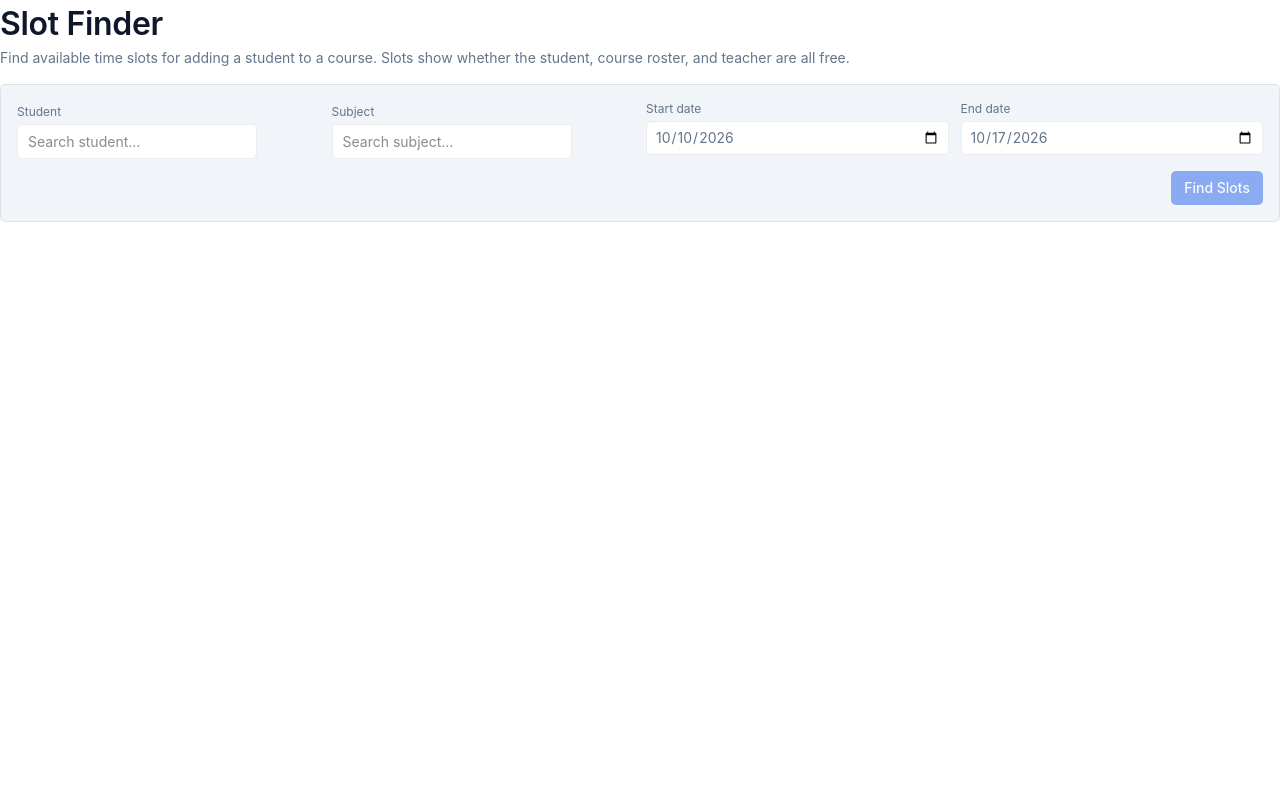
Test: SlotFinder empty state › shows EmptyState after search returns no slots
# Wait for the student lookup to load, then pick the student.
Click the dropdown labelled "Student". click: x=137, y=142
box: top-left (17, 124), bottom-right (257, 159)
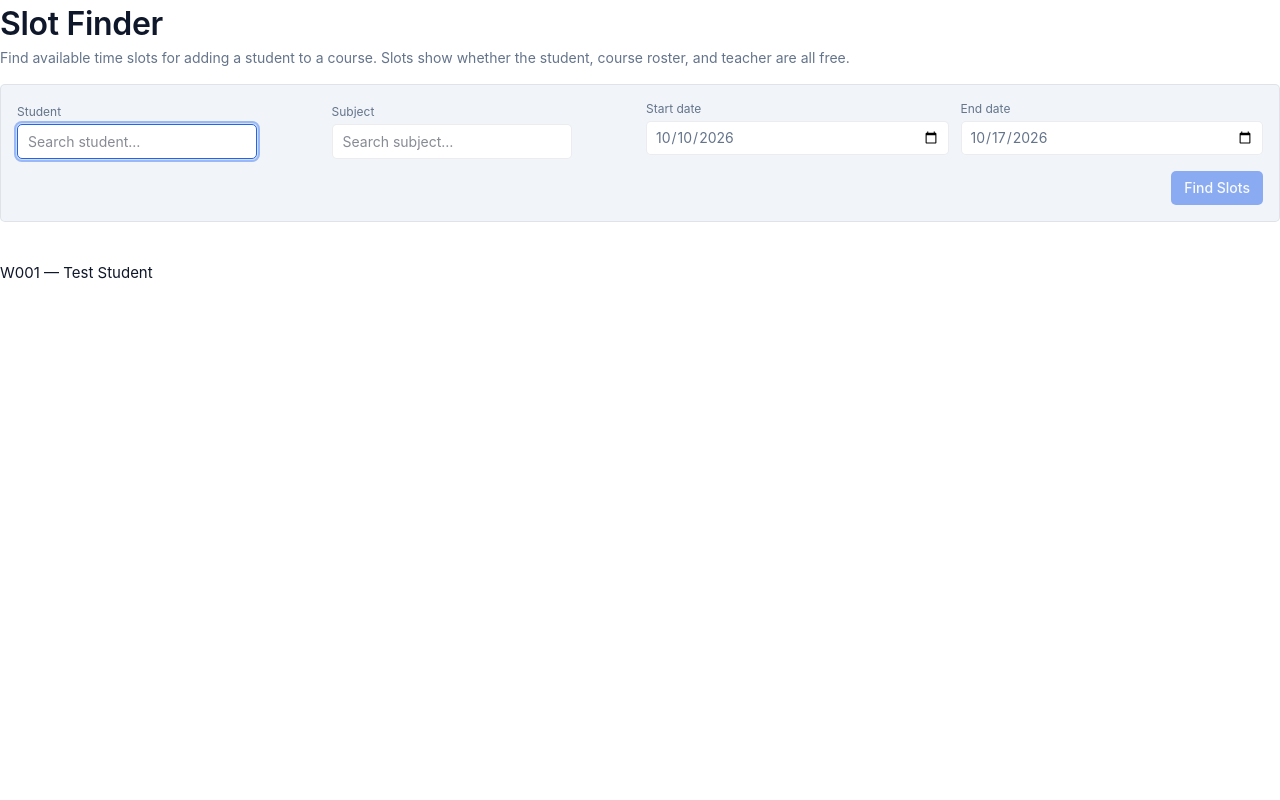
Click the option "W001 — Test Student". click: x=76, y=265
box: top-left (0, 246), bottom-right (153, 284)
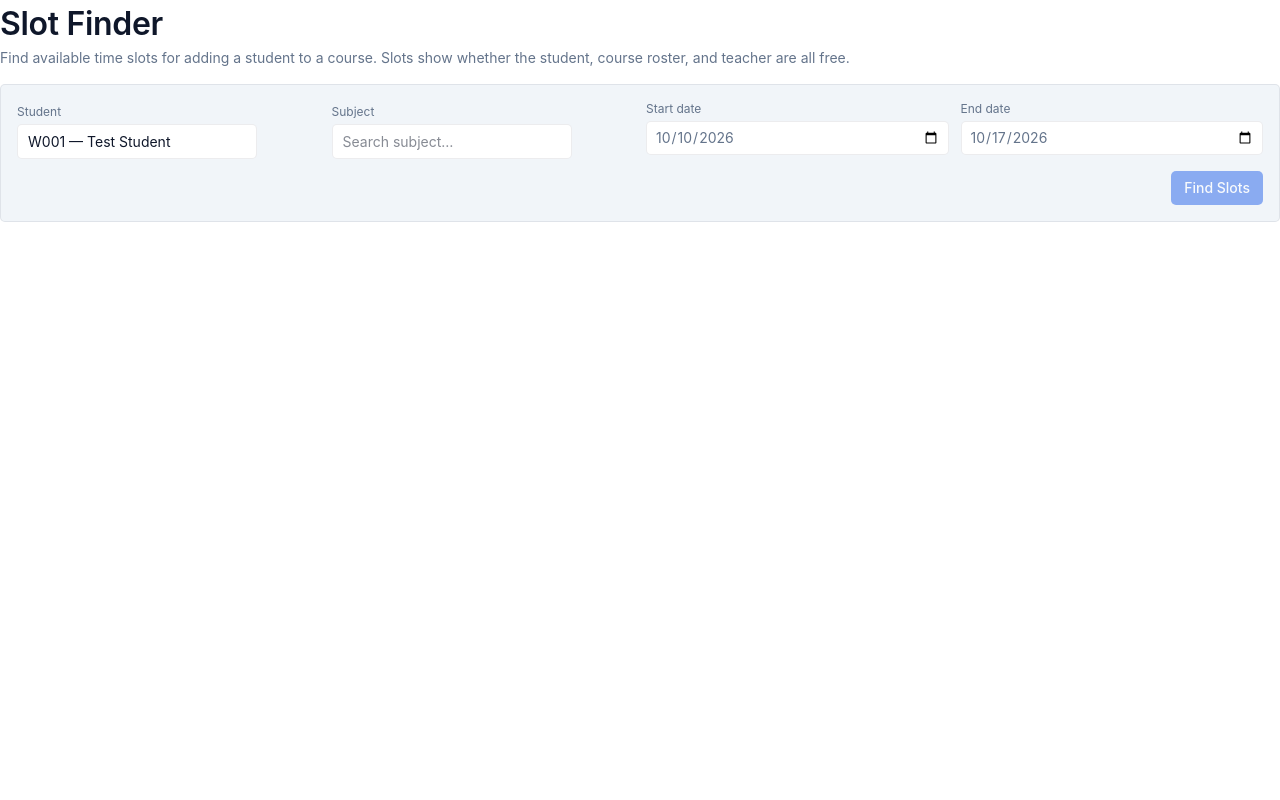
Click the dropdown labelled "Subject". click: x=452, y=142
box: top-left (332, 124), bottom-right (572, 159)
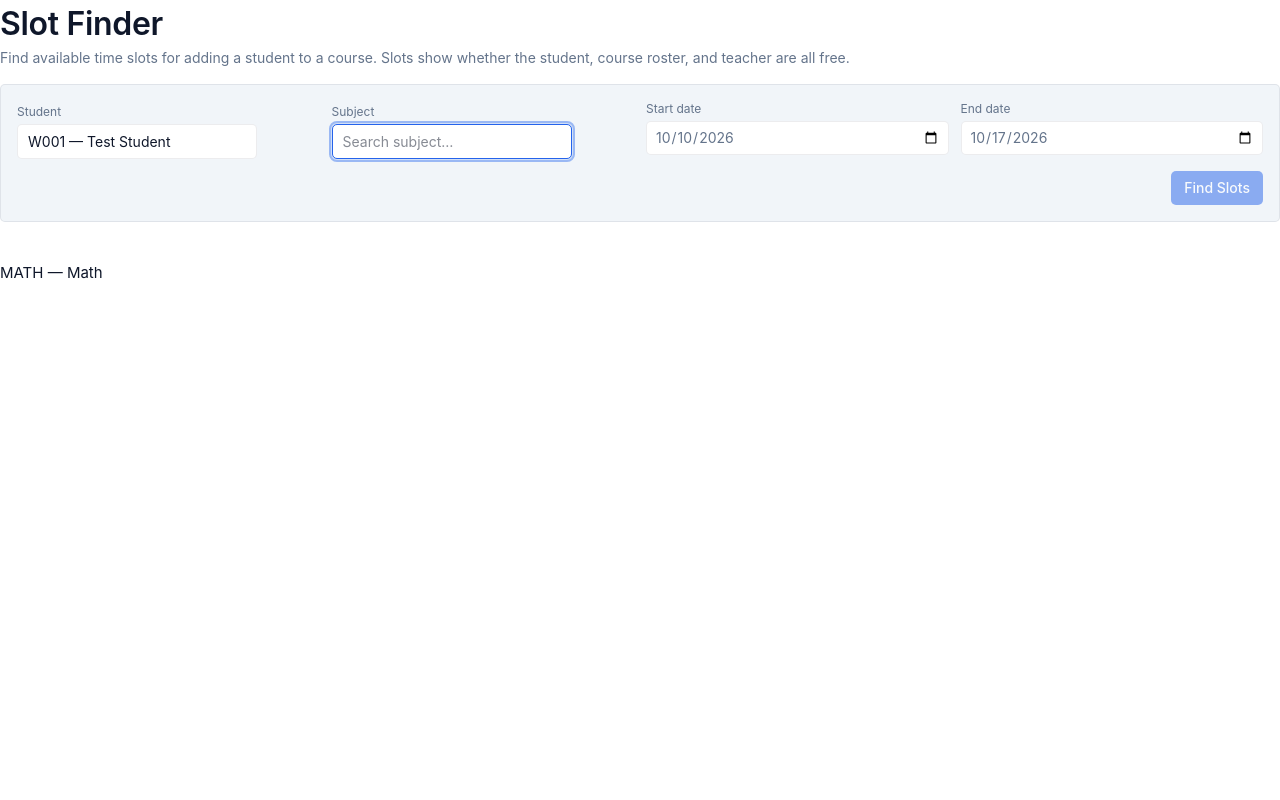
Click the option "MATH — Math". click: x=51, y=265
box: top-left (0, 246), bottom-right (103, 284)
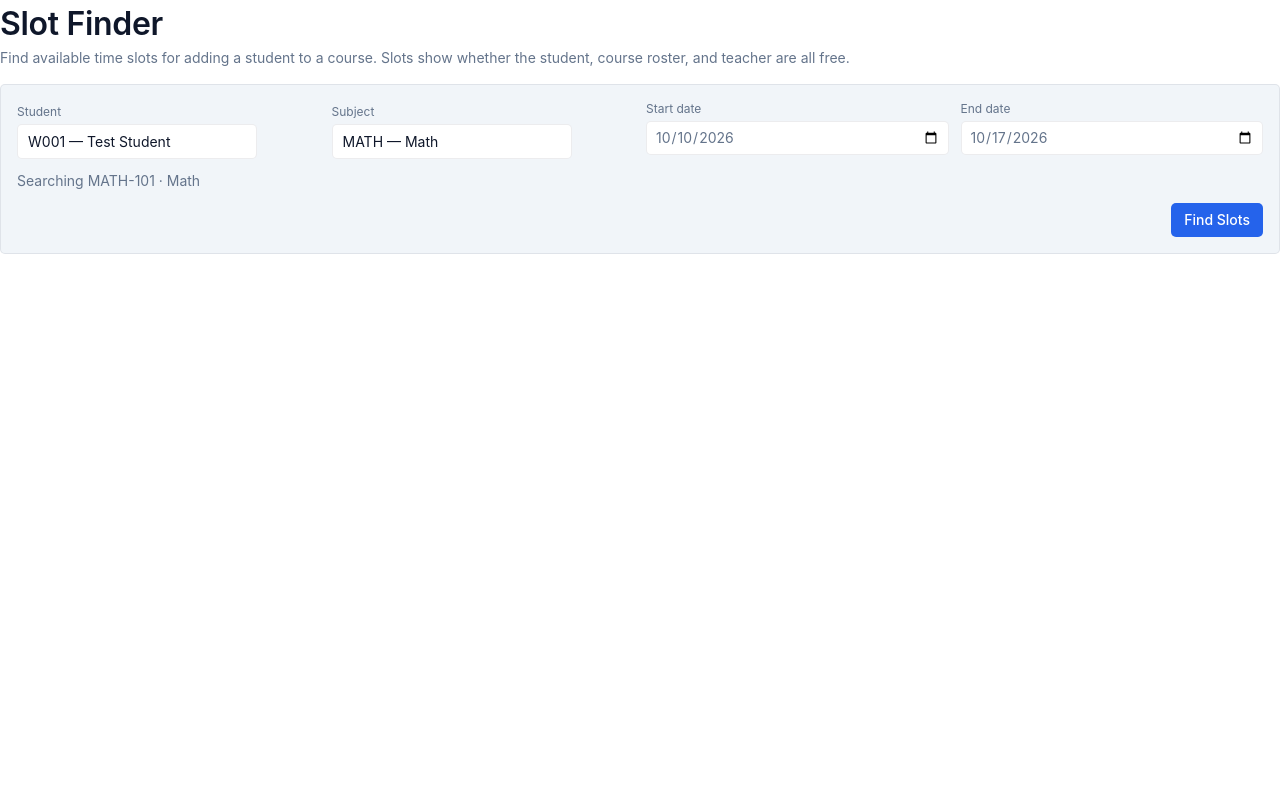
Result: the text "Searching MATH-101 · Math" is shown at top-left (17, 172), bottom-right (200, 189)
Click the button "Find Slots". click: x=1217, y=220
box: top-left (1171, 203), bottom-right (1263, 237)
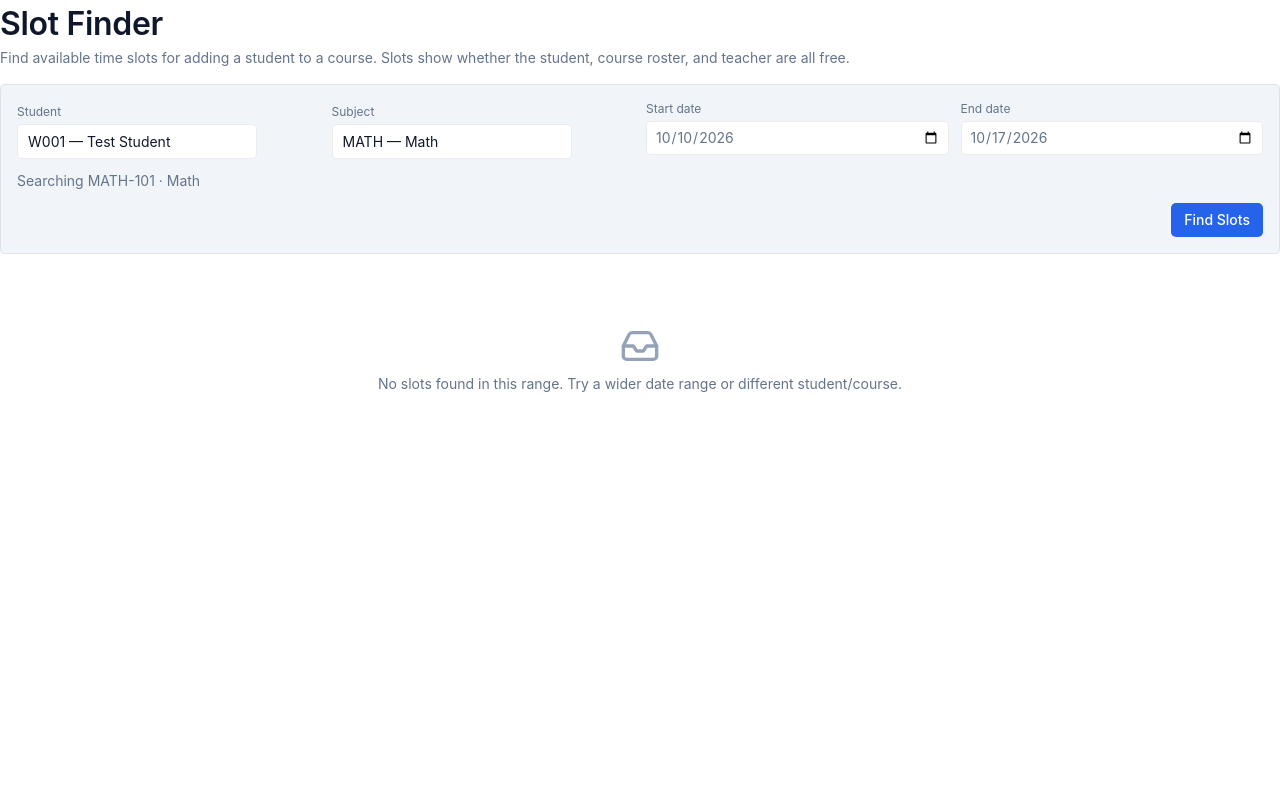
Result: the text "No slots found in this range" is shown at top-left (378, 375), bottom-right (902, 392)
